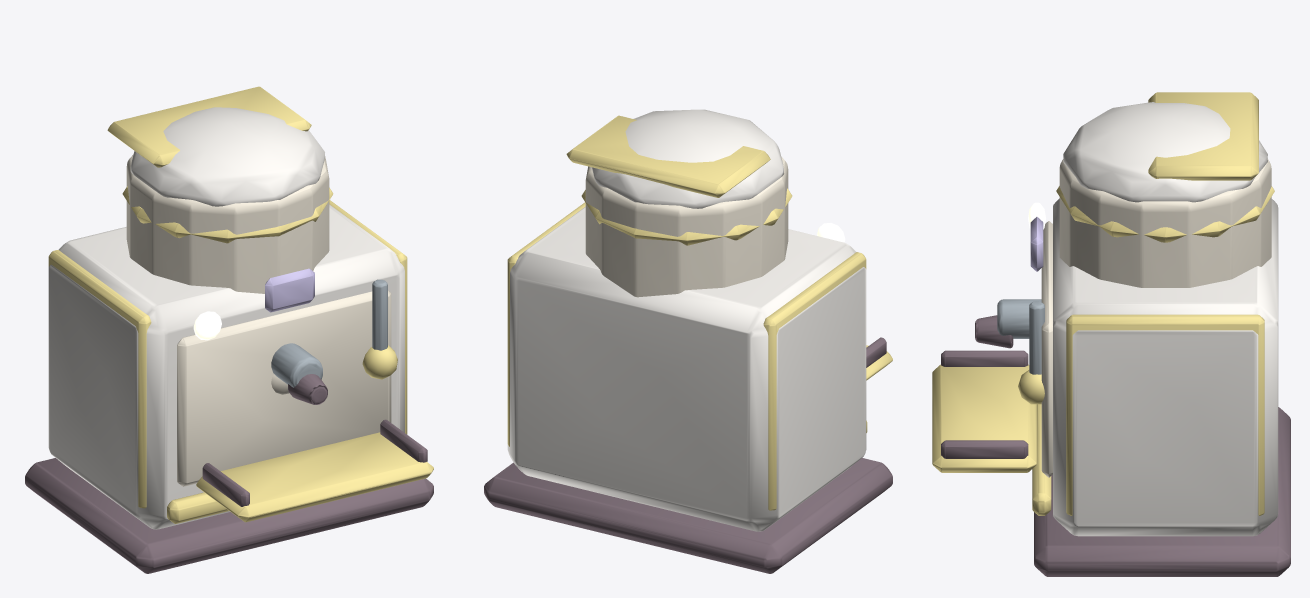
File: machine_vanilla.glb
3 renders of one model, left to right at view 1: azimuth 30°, elevation 25°; view 2: azimuth 150°, elevation 25°; view 3: azimuth 270°, elevation 25°, orthographic. The views are drawn at different scales.
Visible parts, largest first — view 1: Machine_Vanilla_Body, Machine_Vanilla_FlavorPanel, Machine_Vanilla_Tank, Machine_Vanilla_Base, Machine_Vanilla_TankCap, Machine_Vanilla_RemovableOutputTray, Machine_Vanilla_Hatch, Machine_Vanilla_L2_Rail_Left, Machine_Vanilla_TankBand, Machine_Vanilla_L3_Badge, Machine_Vanilla_NozzleNeck, Machine_Vanilla_LowerTrim (+7 smaller); view 2: Machine_Vanilla_Body, Machine_Vanilla_Base, Machine_Vanilla_Tank, Machine_Vanilla_TankCap, Machine_Vanilla_Hatch, Machine_Vanilla_L2_Rail_Left, Machine_Vanilla_TankBand, Machine_Vanilla_L2_Rail_Right; view 3: Machine_Vanilla_Body, Machine_Vanilla_Tank, Machine_Vanilla_Base, Machine_Vanilla_TankCap, Machine_Vanilla_RemovableOutputTray, Machine_Vanilla_Hatch, Machine_Vanilla_L2_Rail_Right, Machine_Vanilla_FlavorPanel, Machine_Vanilla_TankBand, Machine_Vanilla_TrayRail_R, Machine_Vanilla_TrayRail_L, Machine_Vanilla_NozzleNeck (+5 smaller).
Boxes of the visible parts, x1,y1,x2,y2 form: Machine_Vanilla_Body: (48,204,404,529); Machine_Vanilla_FlavorPanel: (177,290,391,486); Machine_Vanilla_Tank: (126,154,329,293); Machine_Vanilla_Base: (25,458,433,573); Machine_Vanilla_TankCap: (130,107,324,206); Machine_Vanilla_RemovableOutputTray: (196,432,433,522); Machine_Vanilla_Hatch: (107,86,311,167); Machine_Vanilla_L2_Rail_Left: (48,250,151,508); Machine_Vanilla_TankBand: (122,186,333,243); Machine_Vanilla_L3_Badge: (265,268,314,312); Machine_Vanilla_NozzleNeck: (271,343,322,387); Machine_Vanilla_LowerTrim: (167,492,228,523); Machine_Vanilla_Body: (507,207,866,531); Machine_Vanilla_Base: (484,458,892,573); Machine_Vanilla_Tank: (585,157,788,297); Machine_Vanilla_TankCap: (591,109,783,208); Machine_Vanilla_Hatch: (566,115,770,197); Machine_Vanilla_L2_Rail_Left: (763,252,866,510); Machine_Vanilla_TankBand: (581,188,792,245); Machine_Vanilla_L2_Rail_Right: (507,202,585,446); Machine_Vanilla_Body: (1053,198,1278,536); Machine_Vanilla_Tank: (1059,159,1271,287); Machine_Vanilla_Base: (1034,407,1290,576); Machine_Vanilla_TankCap: (1063,102,1267,202); Machine_Vanilla_RemovableOutputTray: (932,364,1036,472); Machine_Vanilla_Hatch: (1148,92,1258,180); Machine_Vanilla_L2_Rail_Right: (1066,314,1264,515); Machine_Vanilla_FlavorPanel: (1041,221,1052,477); Machine_Vanilla_TankBand: (1056,186,1274,242); Machine_Vanilla_TrayRail_R: (941,440,1028,458); Machine_Vanilla_TrayRail_L: (941,350,1028,366); Machine_Vanilla_NozzleNeck: (997,299,1041,338).
Bounding box in the file's own units: 2.28 × 2.9 × 2.29.
